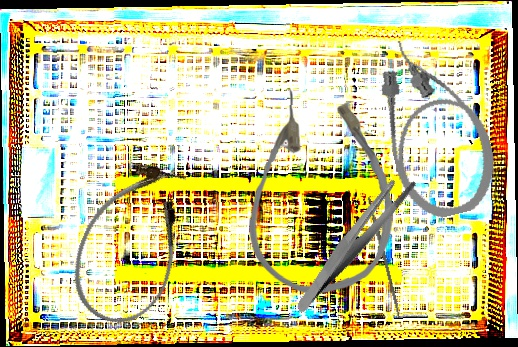Cannula: (248, 87, 395, 296), (56, 149, 207, 338), (366, 25, 506, 226)
Dressing Forceps: (267, 169, 441, 315)
Scalpel Handle: (366, 196, 403, 319)
